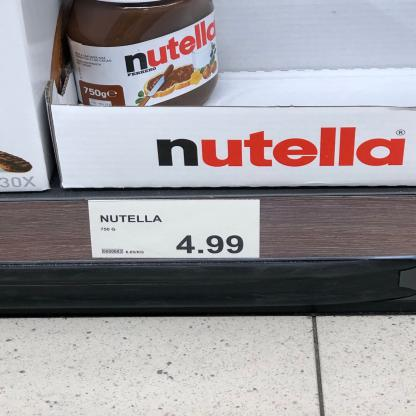prtg: (89, 200, 261, 259)
